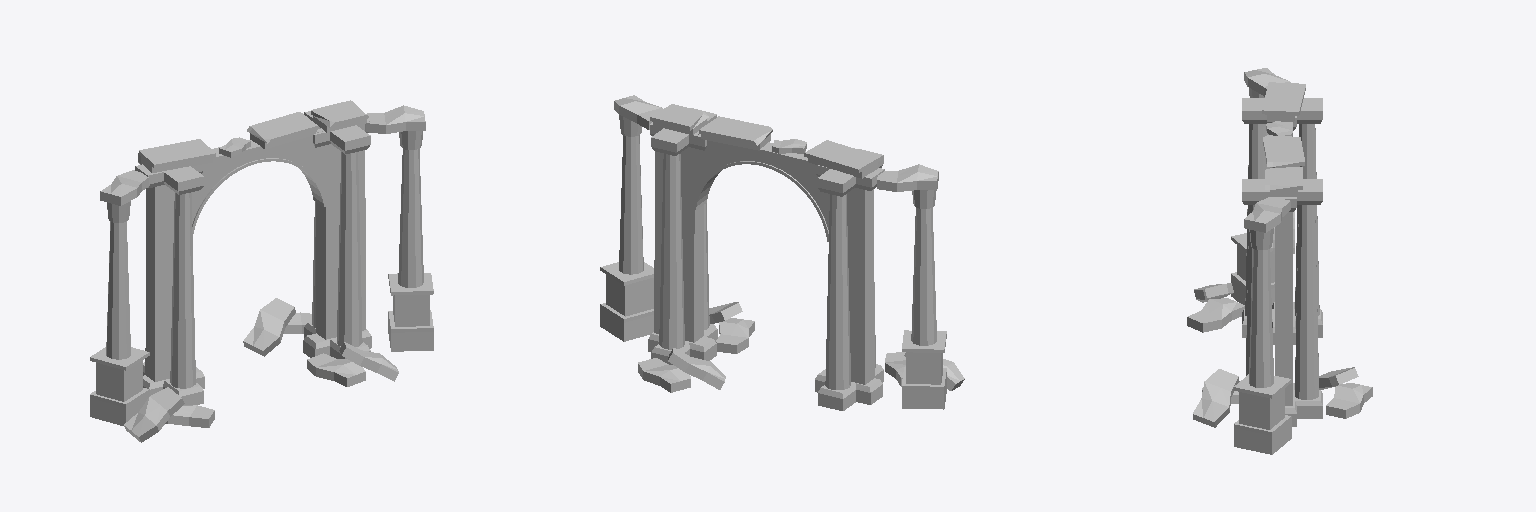
Rendered from ruin_arch_1_001.obj.
3 views of the same model, side by side, from view 1: azimuth 30°, elevation 25°; view 2: azimuth 150°, elevation 25°; view 3: azimuth 270°, elevation 25° (orthographic).
Parts seen in each view (by area): view 1: ruin_arch_1_001; view 2: ruin_arch_1_001; view 3: ruin_arch_1_001.
Part boxes in pixels (bbox=[...]): ruin_arch_1_001: bbox=[90, 100, 433, 442]; ruin_arch_1_001: bbox=[600, 95, 964, 410]; ruin_arch_1_001: bbox=[1187, 68, 1372, 454].
Size of the model in its own units: 13.25 by 8.96 by 6.21.